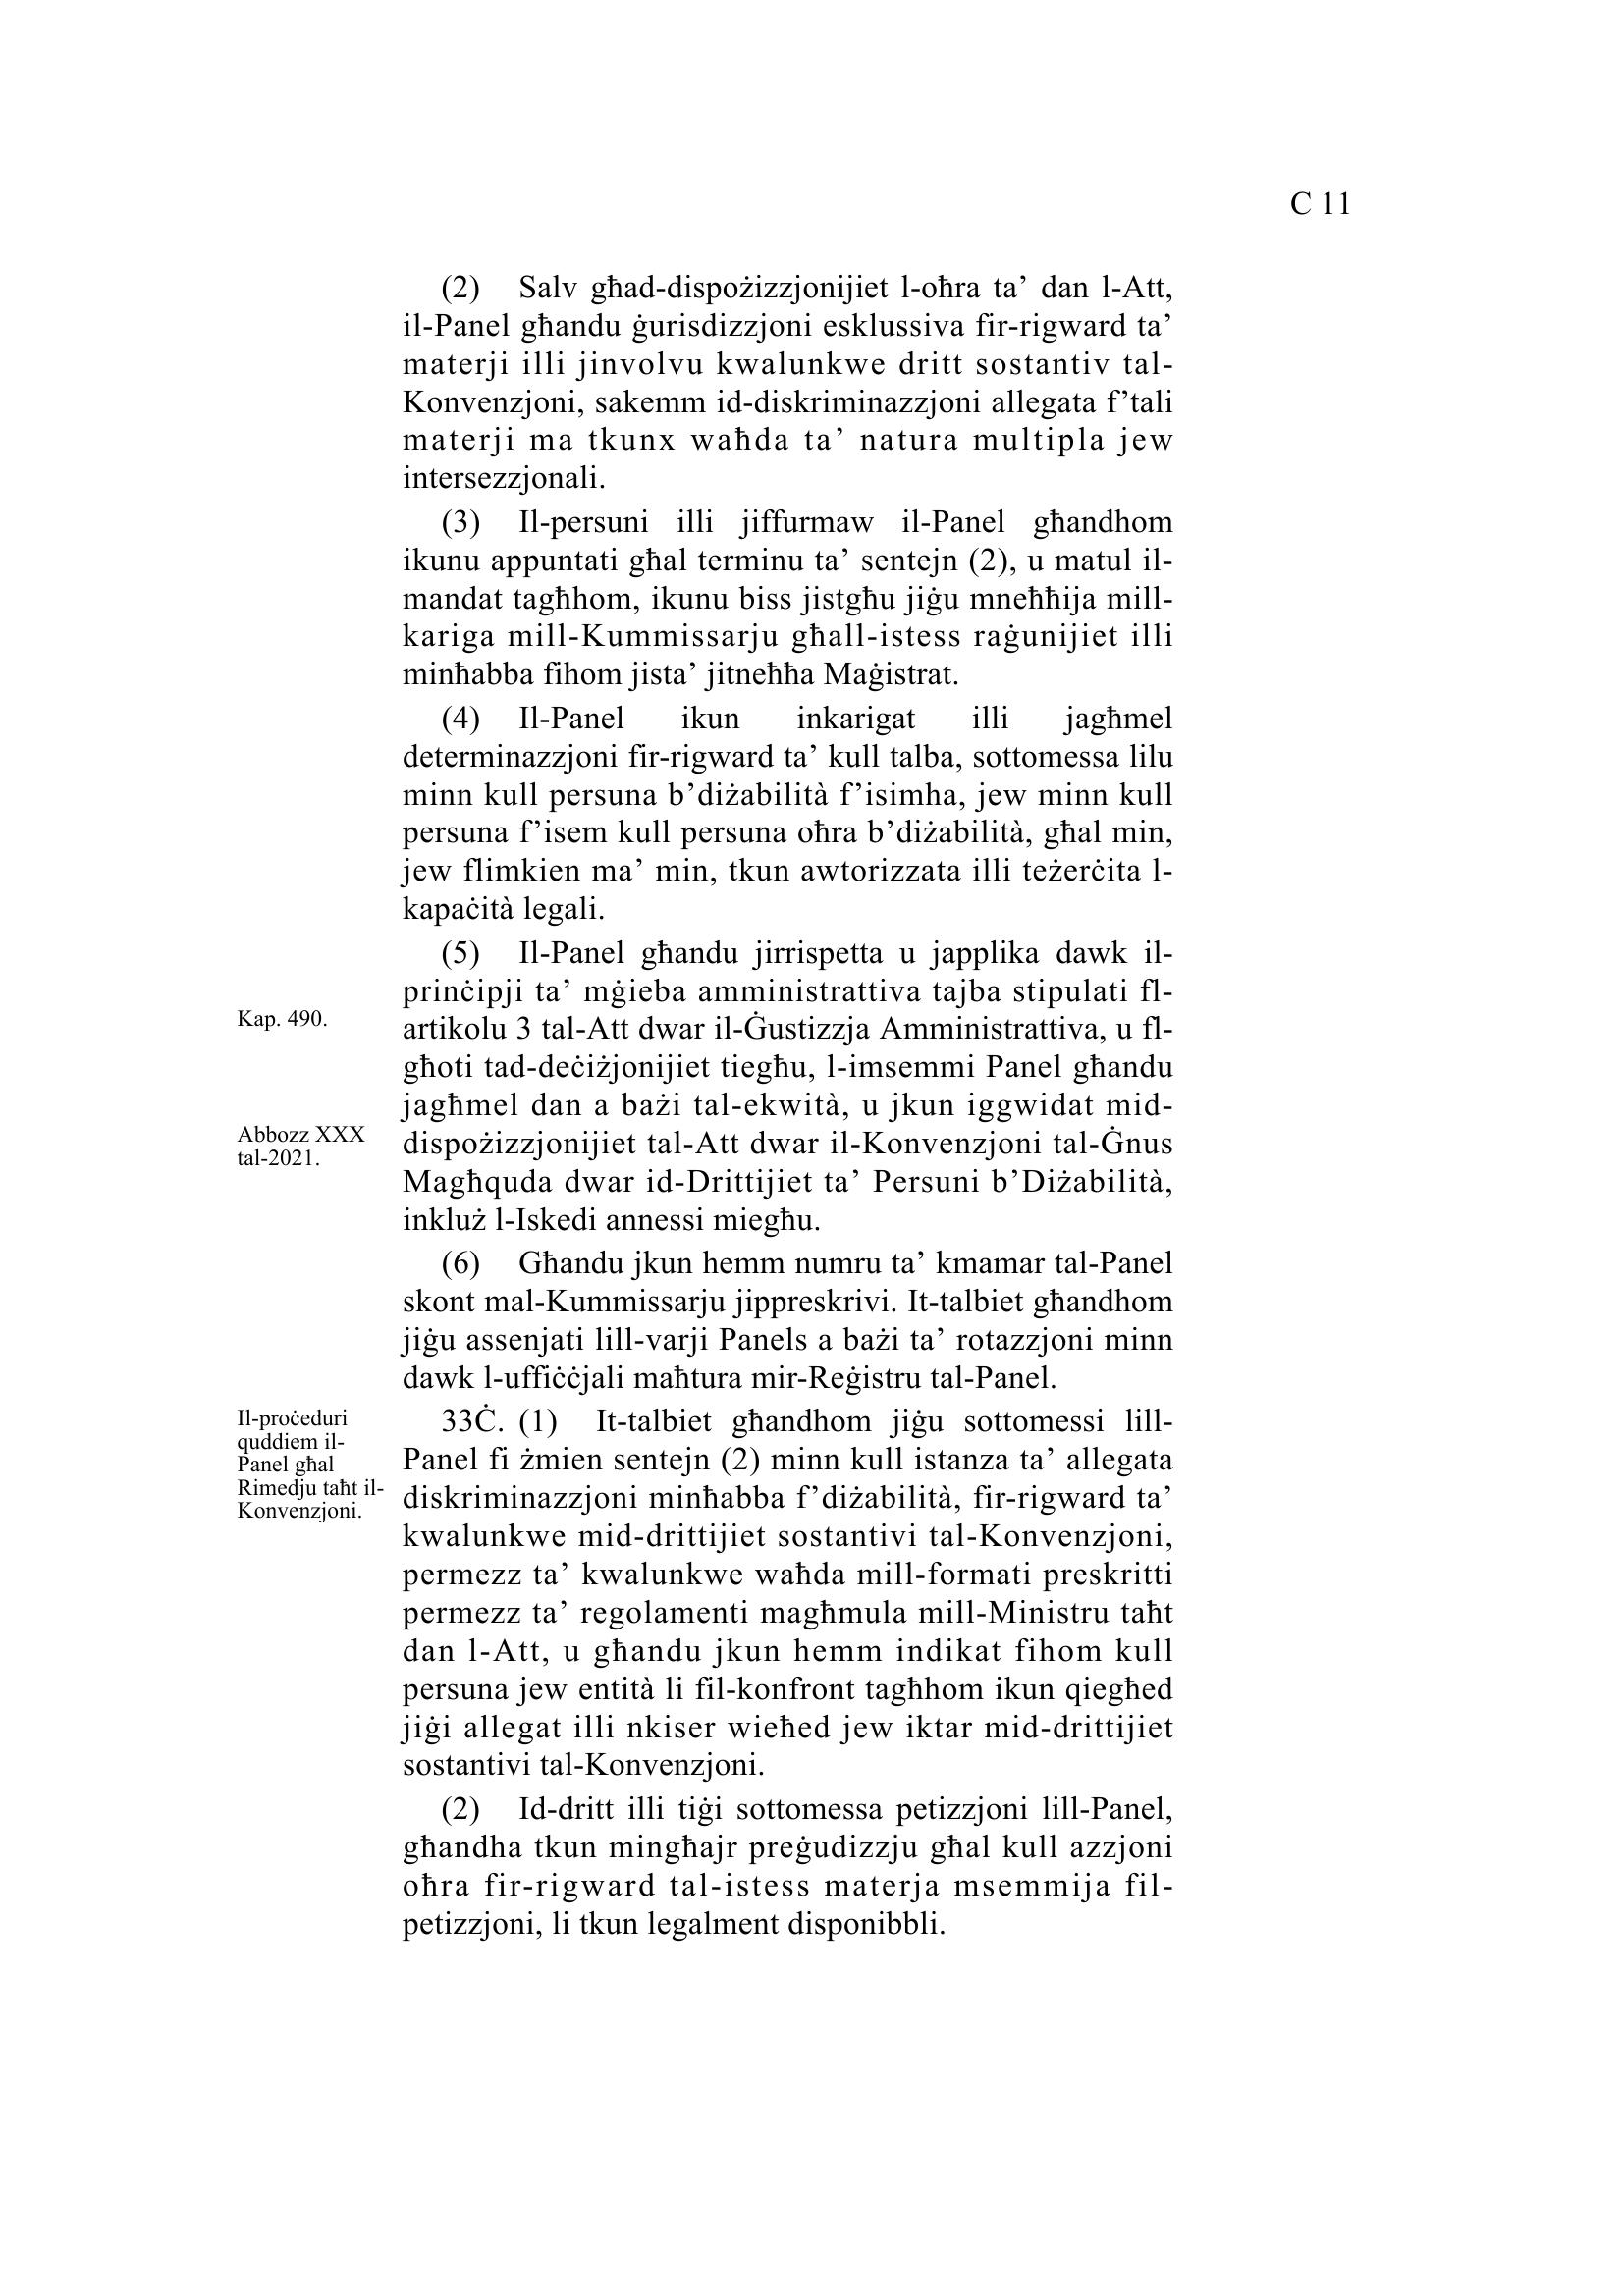text: (383, 256, 1204, 1978)
